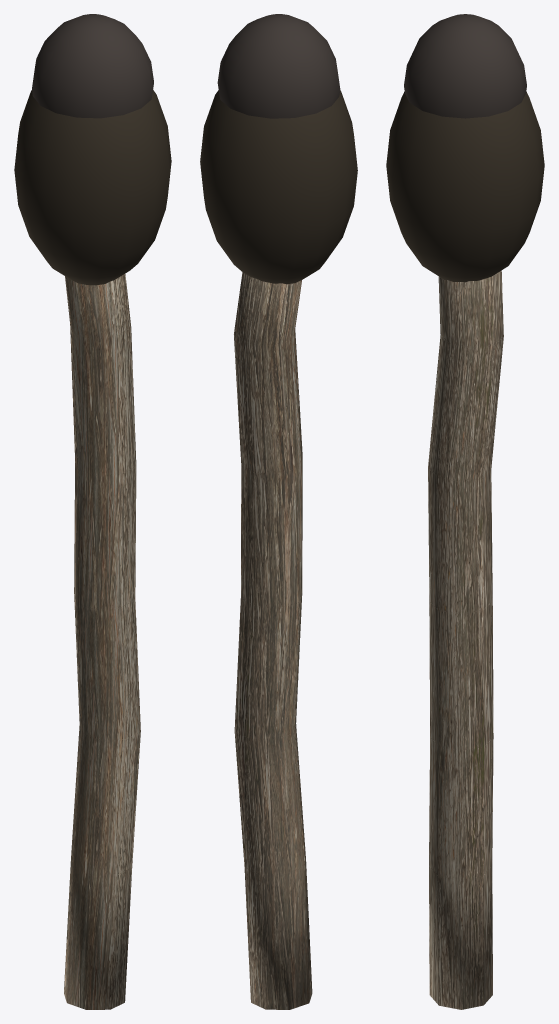
Rendered from SM_Item_torch.gltf.
3 renders of one model, left to right at view 1: azimuth 30°, elevation 25°; view 2: azimuth 150°, elevation 25°; view 3: azimuth 270°, elevation 25°, orthographic.
Parts seen in each view (by area): view 1: SM_Item_torch; view 2: SM_Item_torch; view 3: SM_Item_torch.
Part boxes in pixels (x1=…): SM_Item_torch: x1=14, y1=14, x2=171, y2=1009; SM_Item_torch: x1=200, y1=14, x2=357, y2=1009; SM_Item_torch: x1=386, y1=14, x2=544, y2=1009.
Size of the model in its own units: 0.09 by 0.613 by 0.09.
3 materials, 2 textured.
